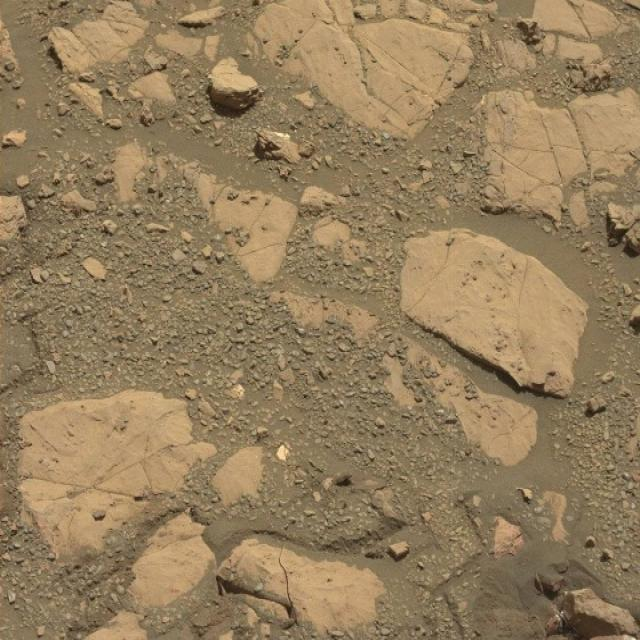rock: (565, 585, 640, 640), (207, 58, 261, 106)
